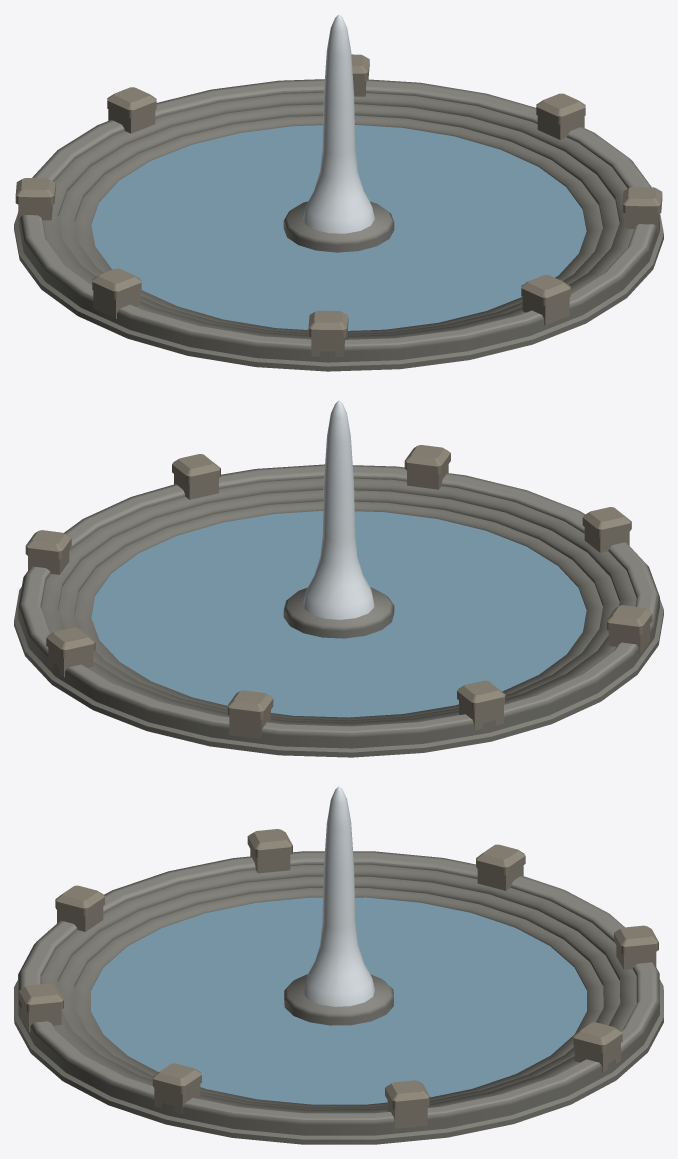
3 renders of one model, top to bottom at view 1: azimuth 30°, elevation 25°; view 2: azimuth 150°, elevation 25°; view 3: azimuth 270°, elevation 25°, orthographic.
Parts seen in each view (by area): view 1: washington-square-fountain; view 2: washington-square-fountain; view 3: washington-square-fountain.
Boxes of the visible parts, left/top/right/bottom form: washington-square-fountain: left=14, top=15, right=663, bottom=371; washington-square-fountain: left=14, top=400, right=663, bottom=757; washington-square-fountain: left=14, top=786, right=663, bottom=1144.
Bounding box in the file's own units: 23.32 × 8.75 × 23.32.
